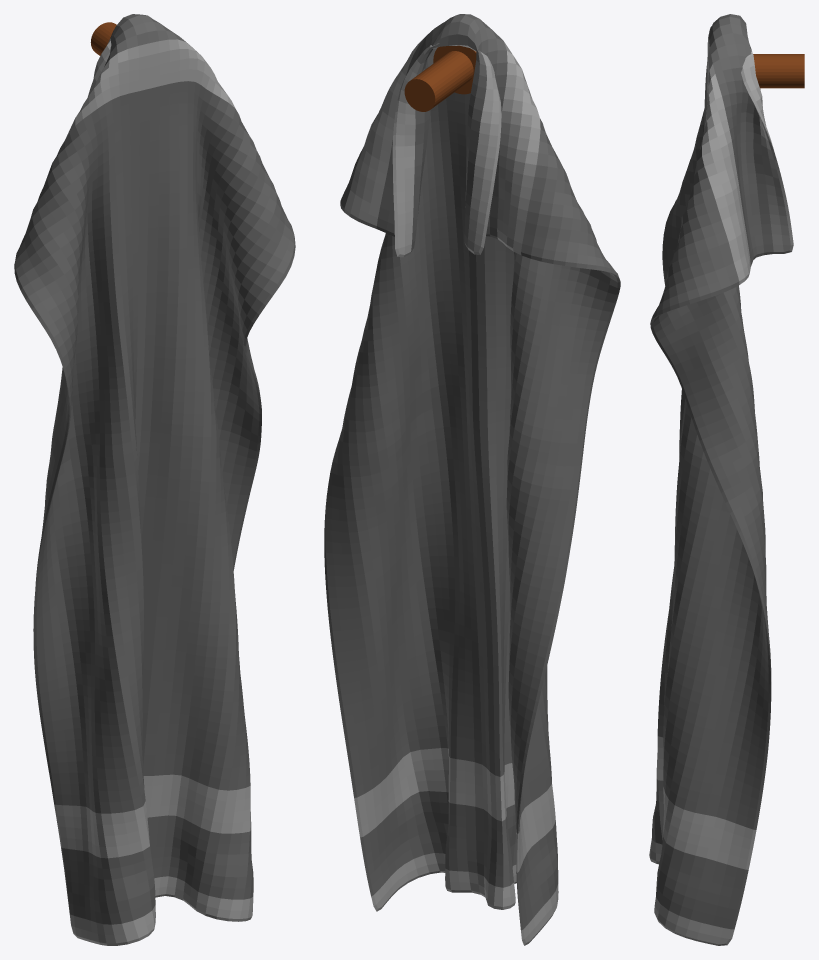
The model's file is Serviette.fbx.
The picture shows the model from 3 angles, left to right: view 1: azimuth 30°, elevation 25°; view 2: azimuth 150°, elevation 25°; view 3: azimuth 270°, elevation 25°; orthographic projection. The views are drawn at different scales.
Visible parts, largest first — view 1: Plane; view 2: Plane, Cylinder; view 3: Plane, Cylinder.
Part boxes in pixels (x1,y1,x2,y2): Plane: (14, 14, 295, 945); Plane: (324, 14, 620, 945); Cylinder: (404, 45, 476, 111); Plane: (649, 14, 793, 945); Cylinder: (753, 54, 804, 88).
Bounding box in the file's own units: 119 × 391 × 62.17.
